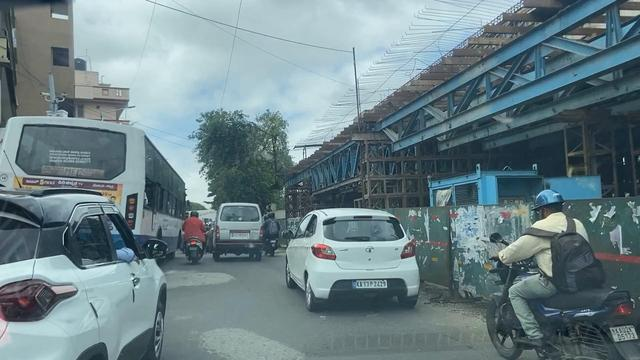LMV: (485, 195, 617, 358), (311, 210, 413, 311), (216, 203, 259, 262), (185, 210, 208, 262)
RoadDamages: (196, 323, 302, 360), (169, 269, 234, 288)
